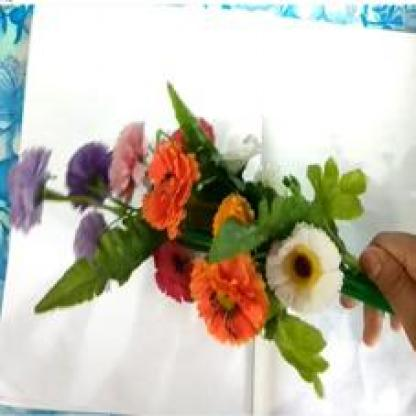flower: (0, 53, 370, 383)
